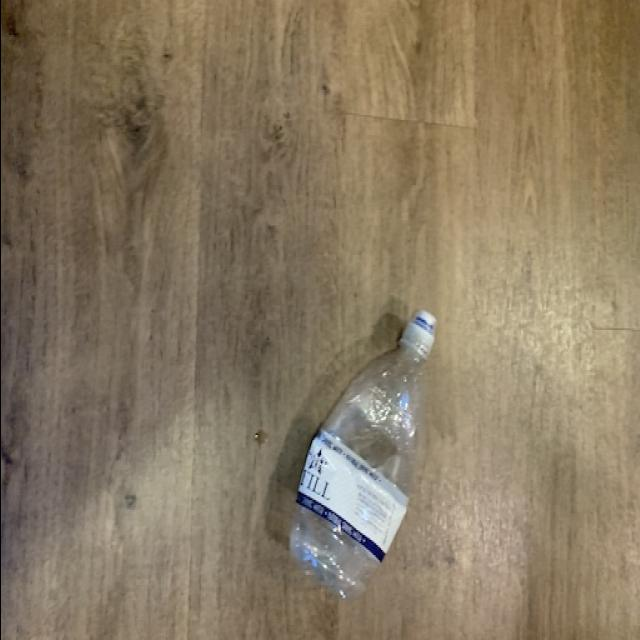litter: (265, 295, 447, 603)
